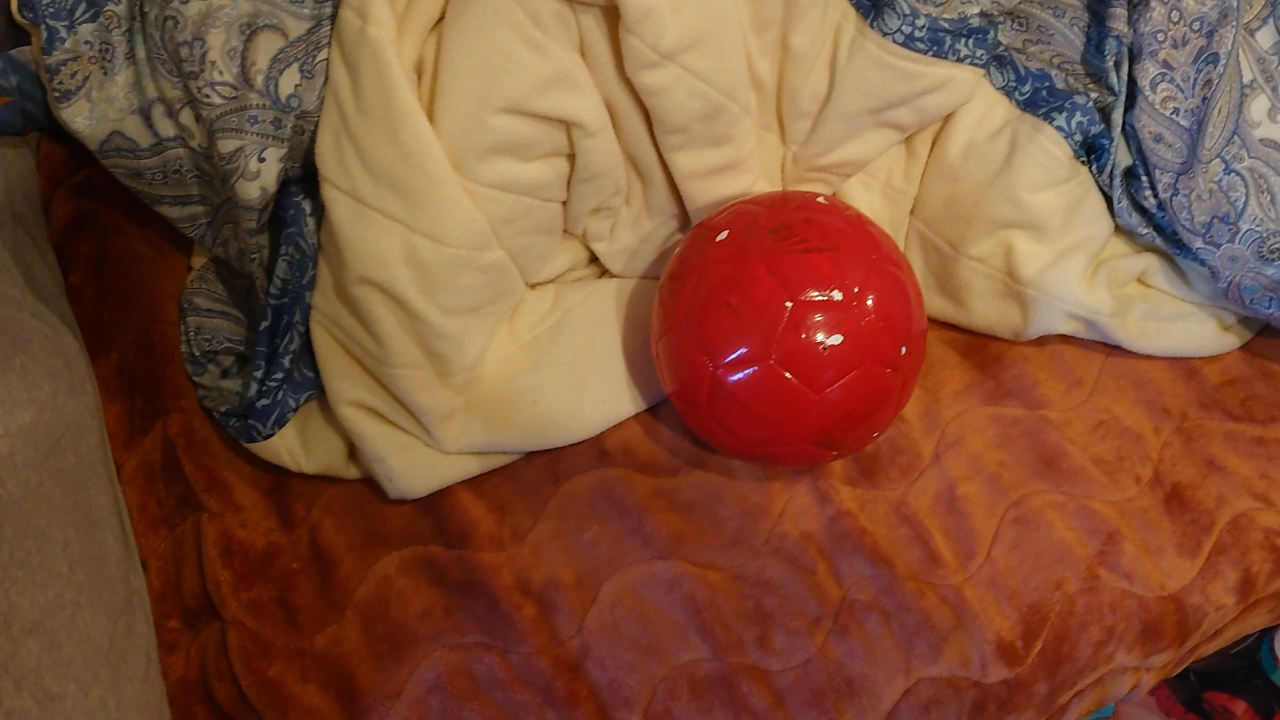red: (650, 192, 926, 465)
